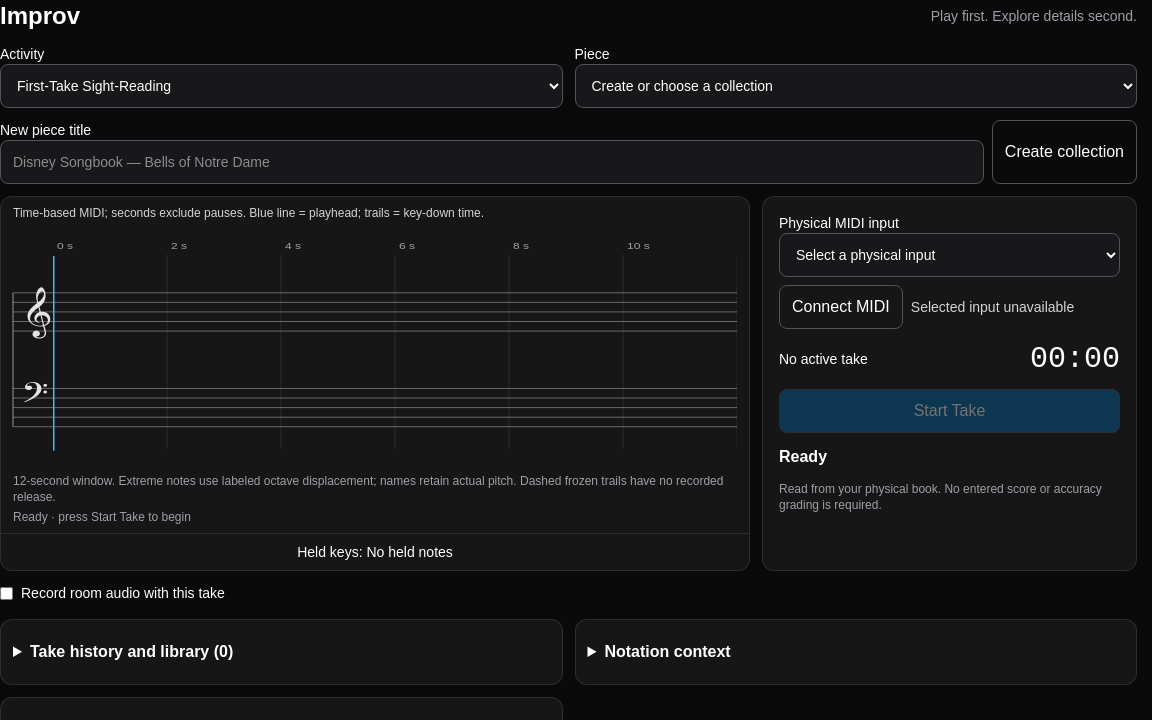
playing-first Improv workspace › a coordinated native transition exception interrupts MIDI instead of silently downgrading
The width and height of the screenshot is (1152, 720).
Expected: the button "Create collection" is enabled, [992,120,1137,184]
In the field labelled "New piece title": (492, 162) [0,140,984,184], type "Disney book"
Click the button "Create collection": click(1064, 152) [992,120,1137,184]
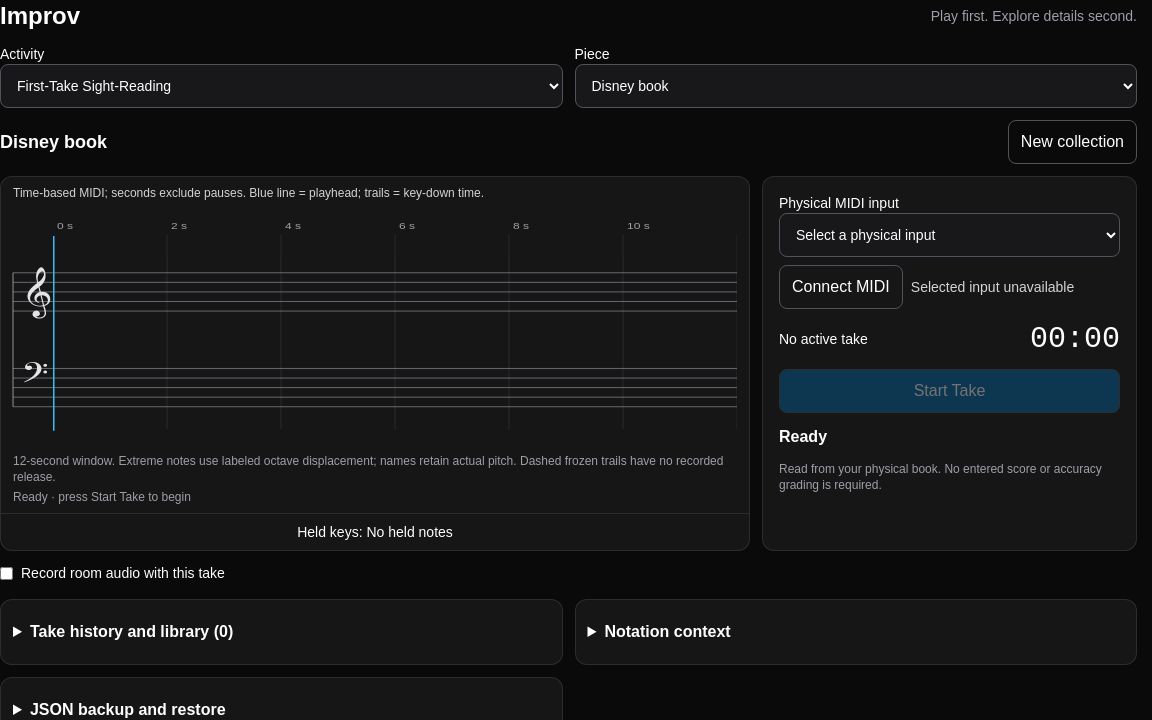
Expected: the heading "Disney book" is shown, [0,132,107,152]
Select "Room piano" in the dropdown labelled "Physical MIDI input": (950, 235) [779,213,1120,257]
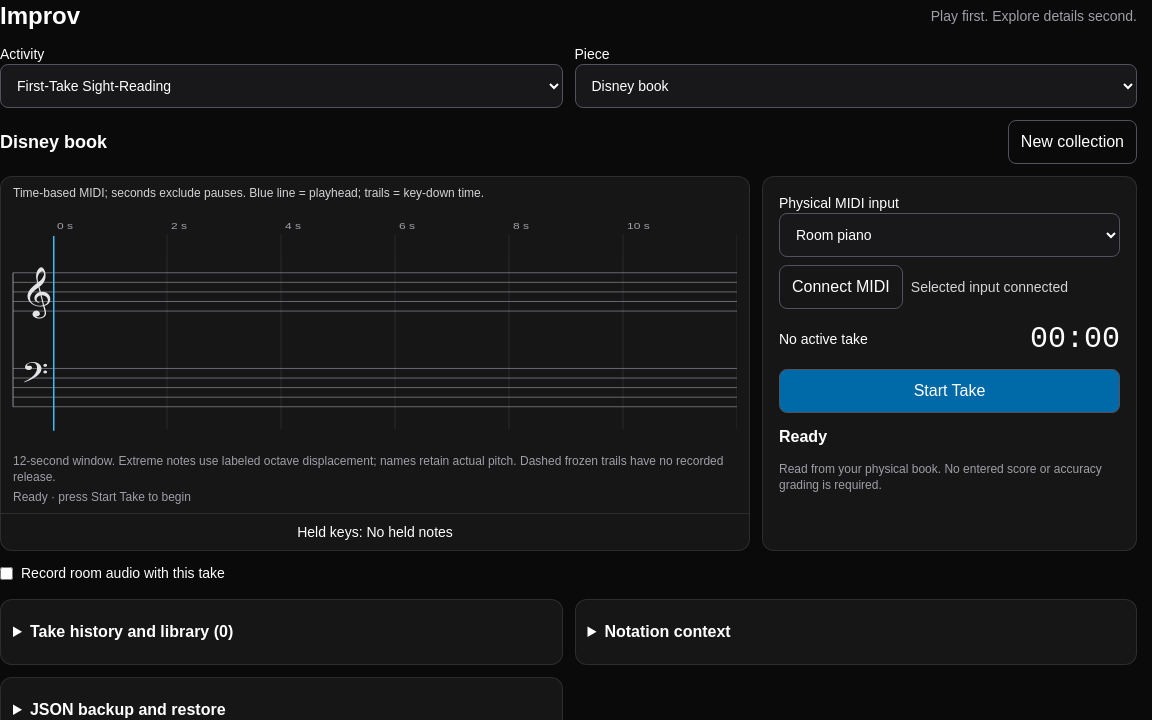
Expected: the button "Start Take" is enabled, [779,369,1120,413]
Click the checkbox labelled "Record room audio with this take": click(6, 573) [0,566,13,580]
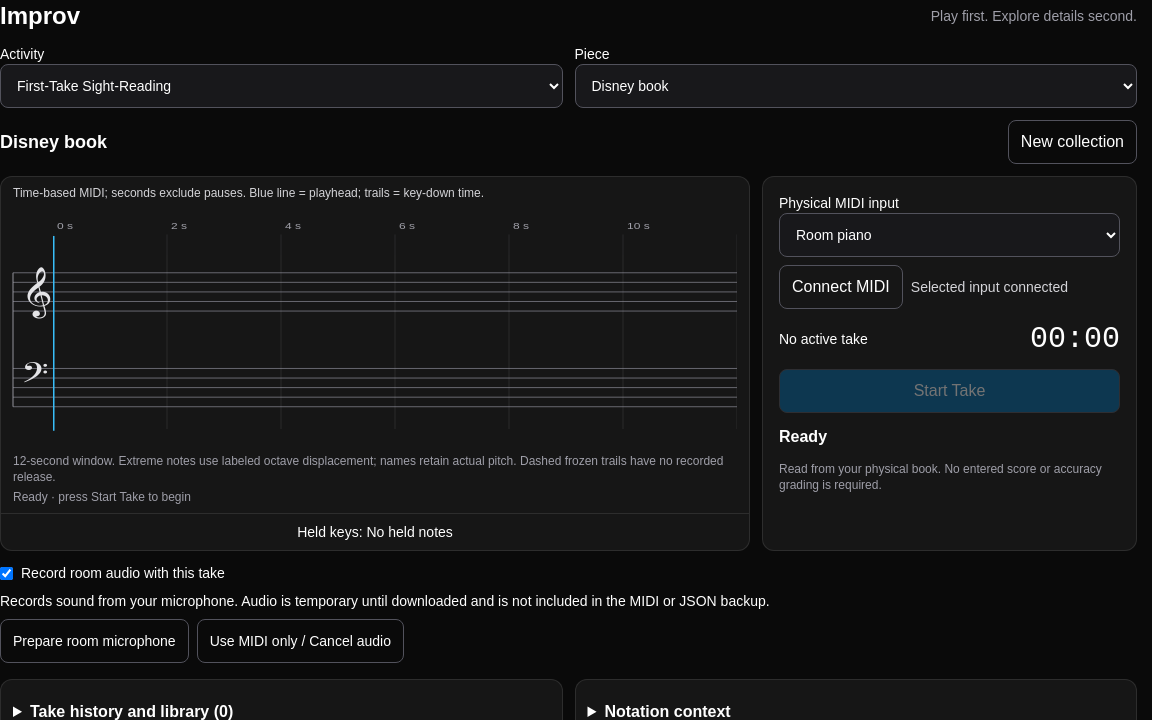
Click the button "Prepare room microphone": click(94, 641) [0,619,189,663]
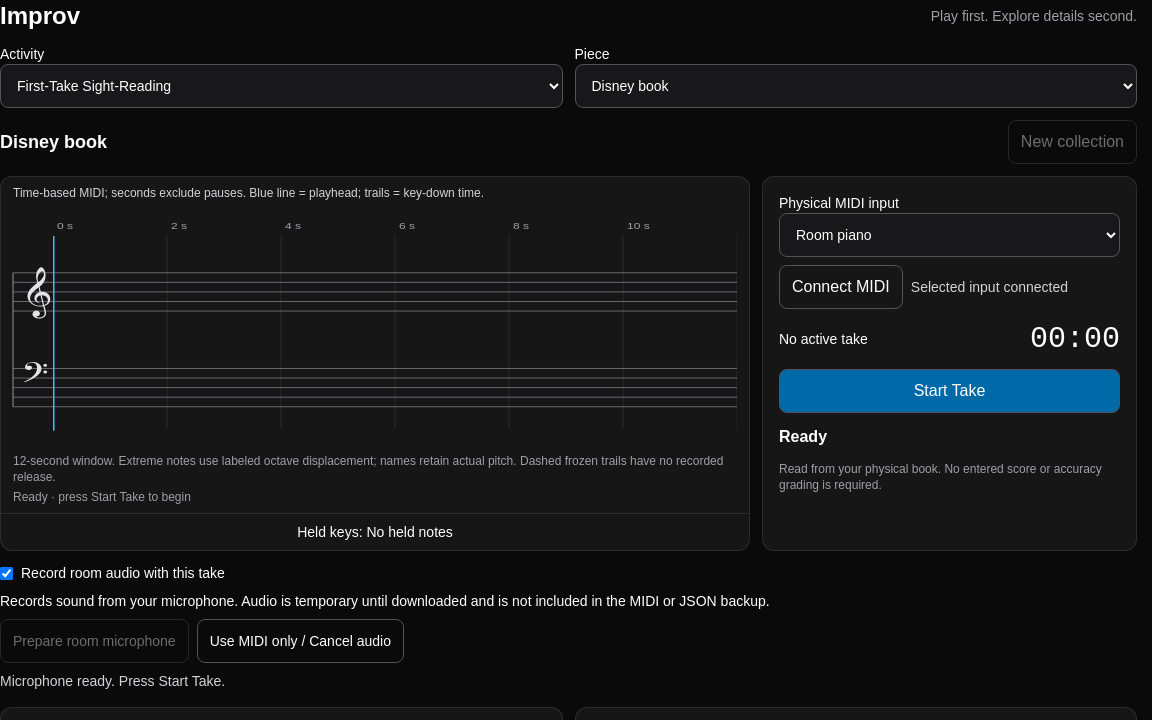
Expected: the text "Microphone ready. Press Start Take." is shown, [0,673,225,689]
Click the button "Start Take": click(950, 391) [779,369,1120,413]
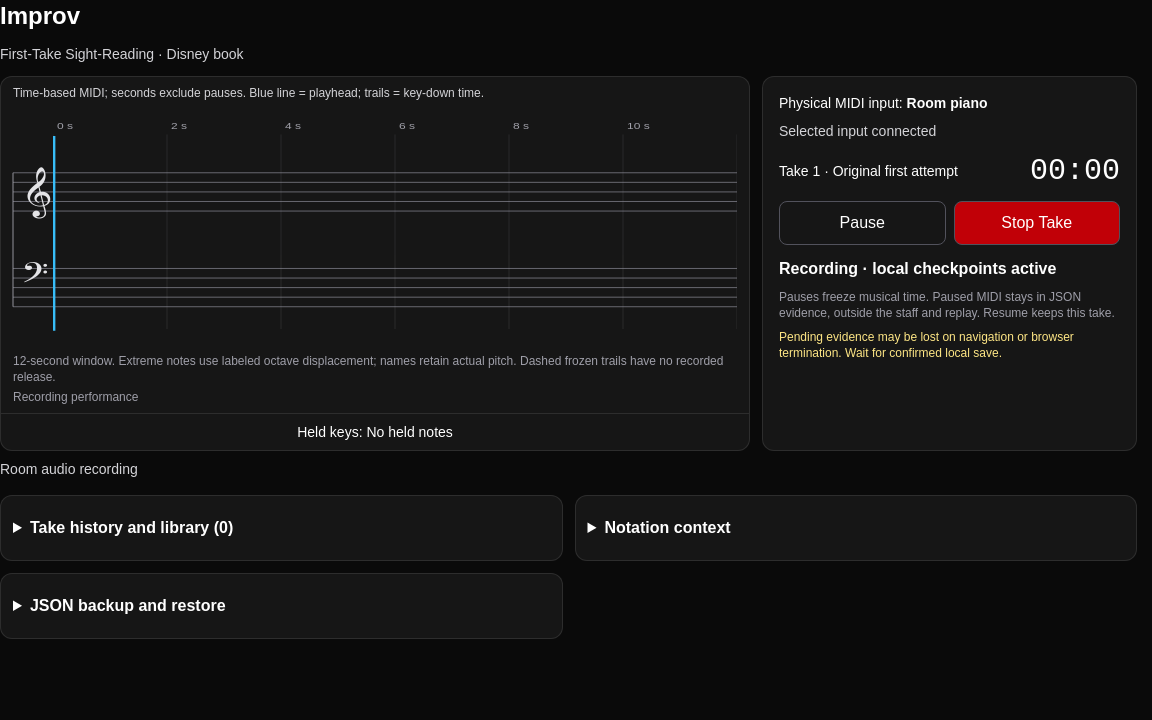
Expected: the button "Stop Take" is shown, [954,201,1120,245]
Click the button "Pause": click(862, 223) [779,201,946,245]
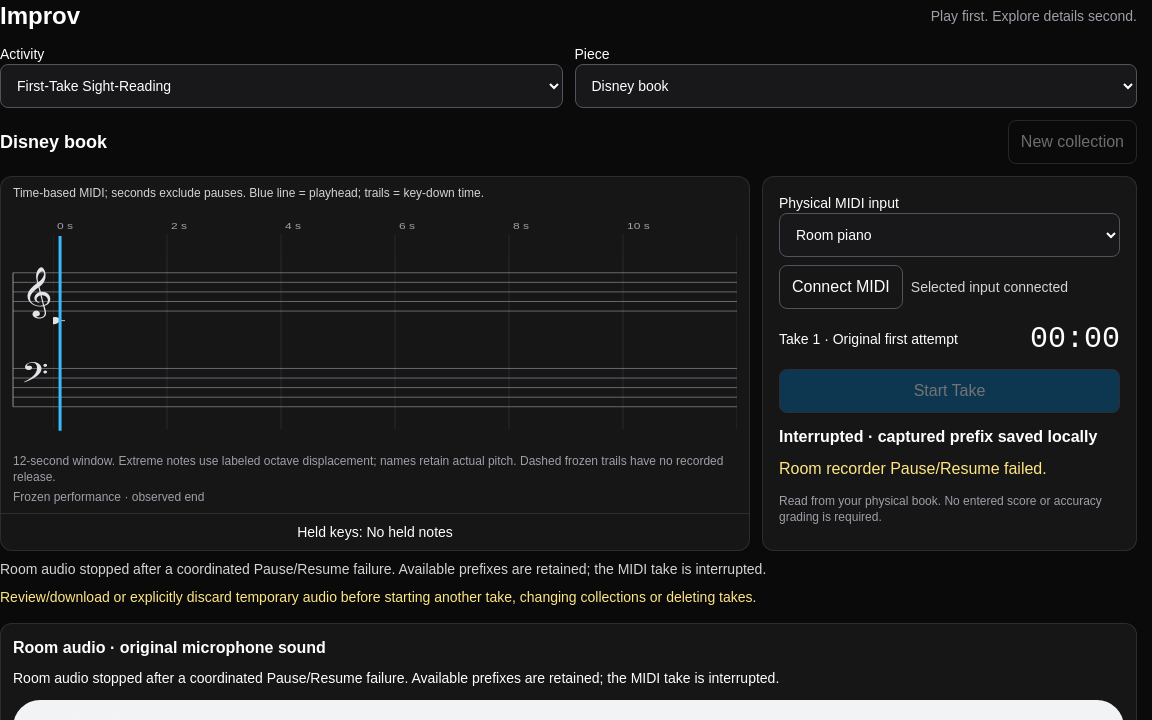
Expected: the text "Interrupted · captured prefix saved locally" is shown, [779,425,1120,449]
